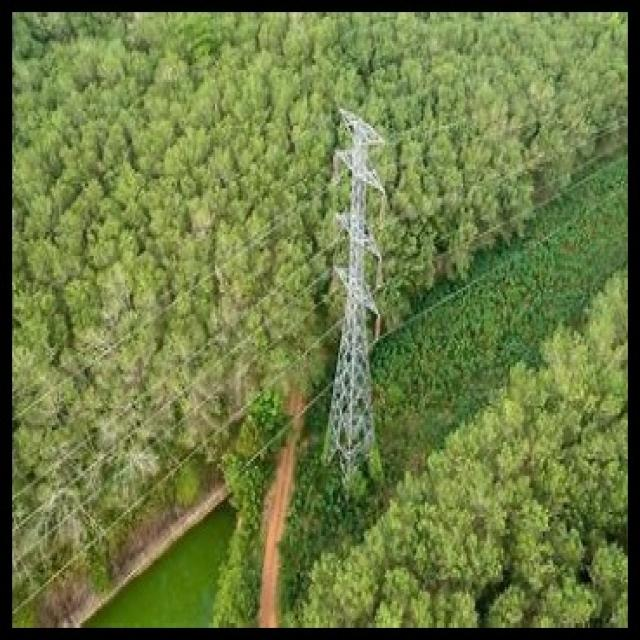utility poles: (302, 65, 409, 493)
